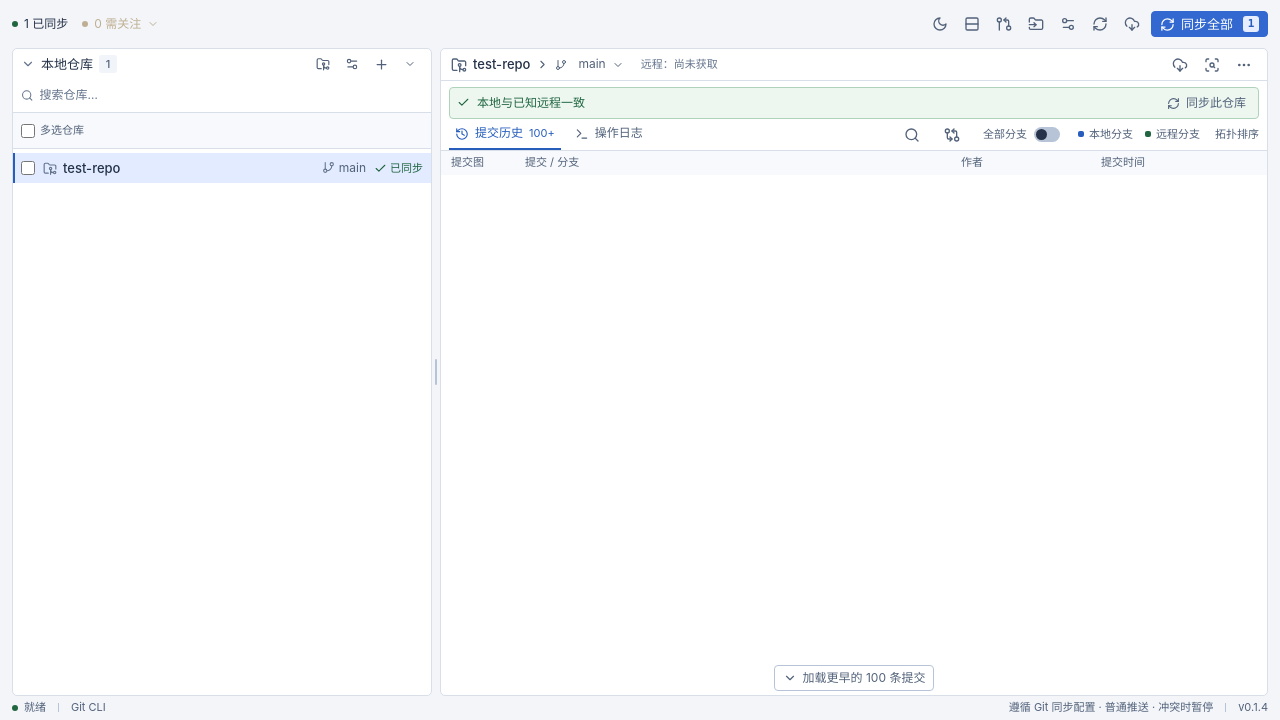
Scenario: defaults to current history and resets pagination when toggling all branches
(page scrolled)
Expected: the text "100+" is shown, [529,126,555,141]
Click the button "加载更早的 100 条提交". click: (854, 678)
box: [774,665,934,691]
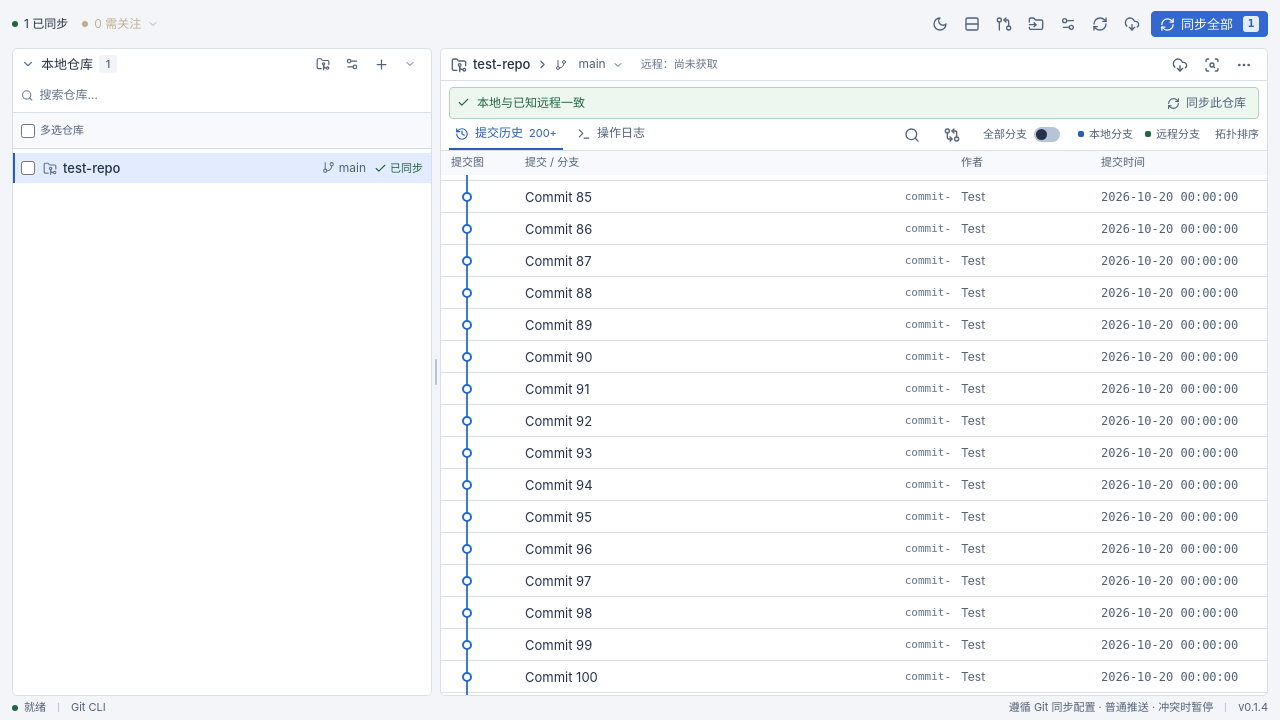
Result: the text "200+" is shown at [529,126,557,141]
Click the switch named "显示全部分支". click: (1022, 134)
box: [979,122,1064,148]
(page scrolled)
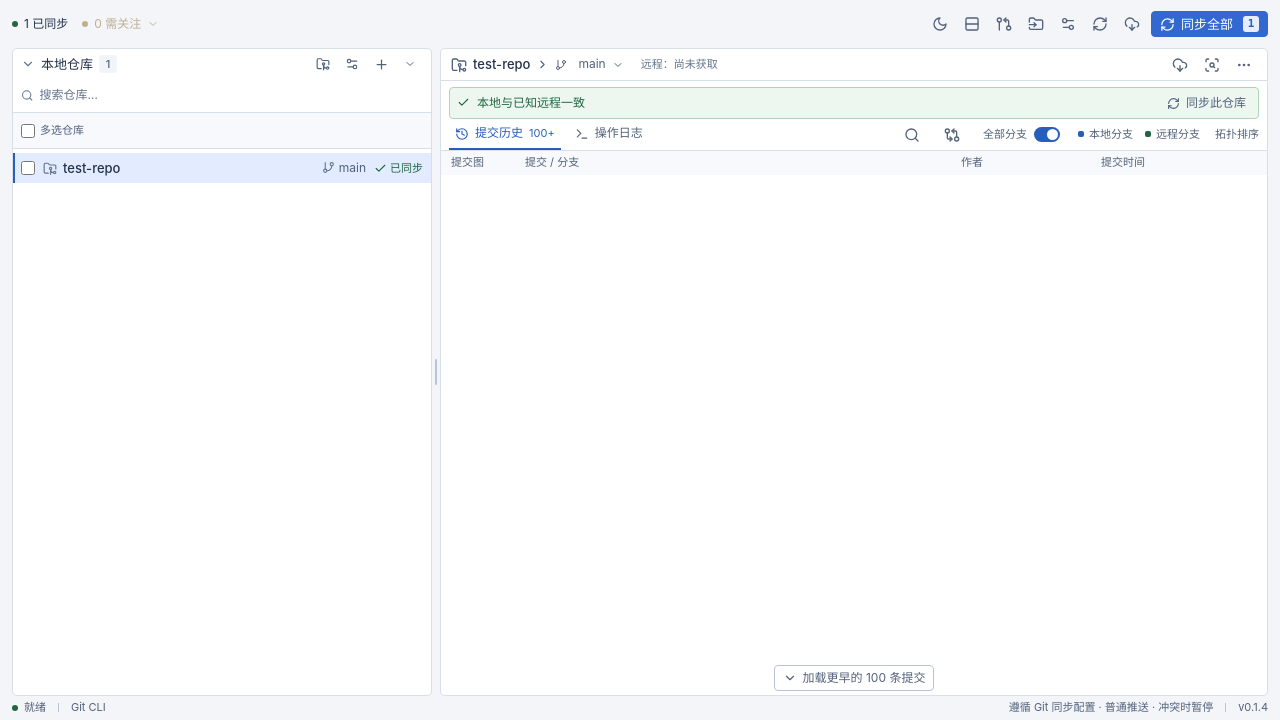
Result: the text "100+" is shown at [529,126,555,141]
Click the button "加载更早的 100 条提交". click: (854, 678)
box: [774,665,934,691]
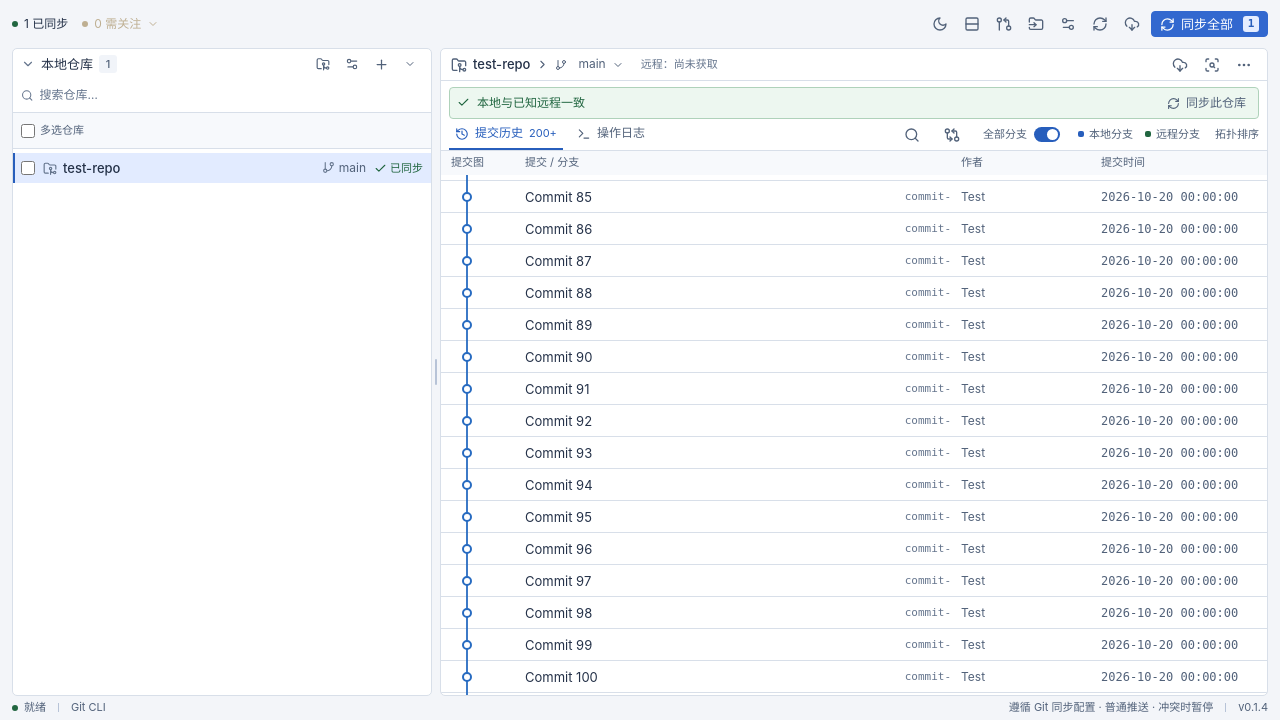
Result: the text "200+" is shown at [529,126,557,141]
Click the switch named "显示全部分支". click: (1022, 134)
box: [979,122,1064,148]
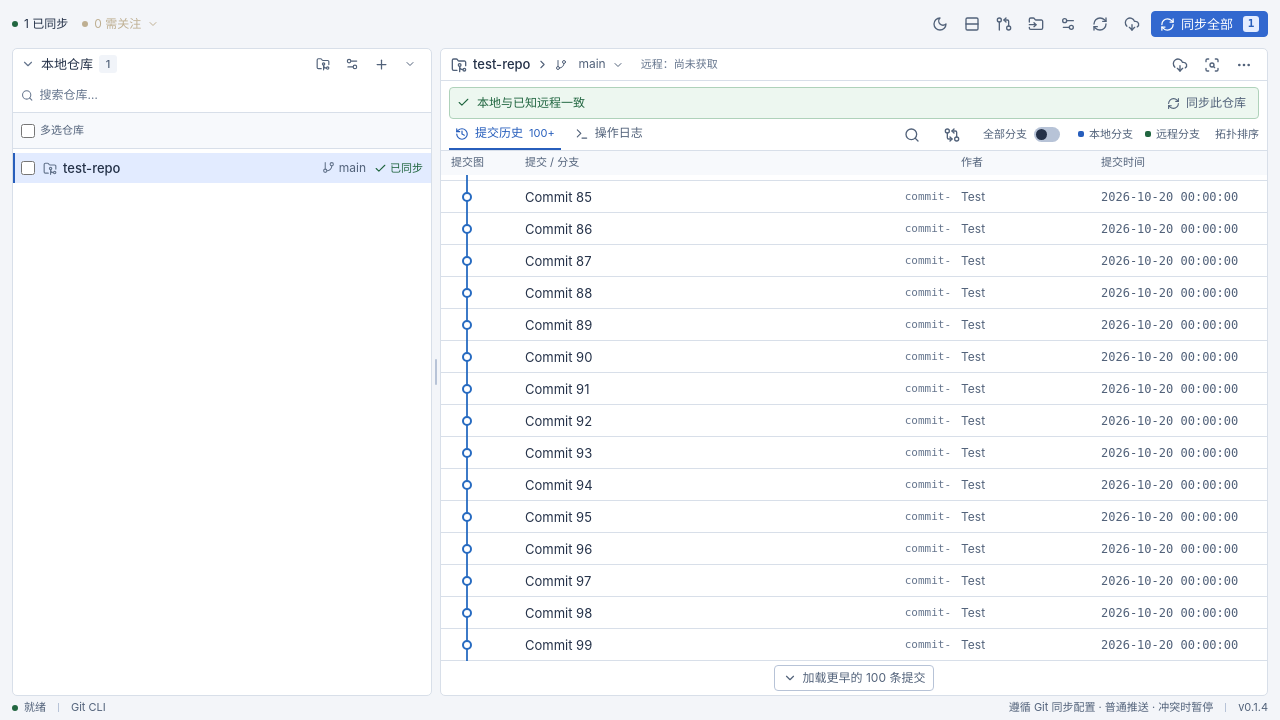
Result: the text "100+" is shown at [529,126,555,141]
